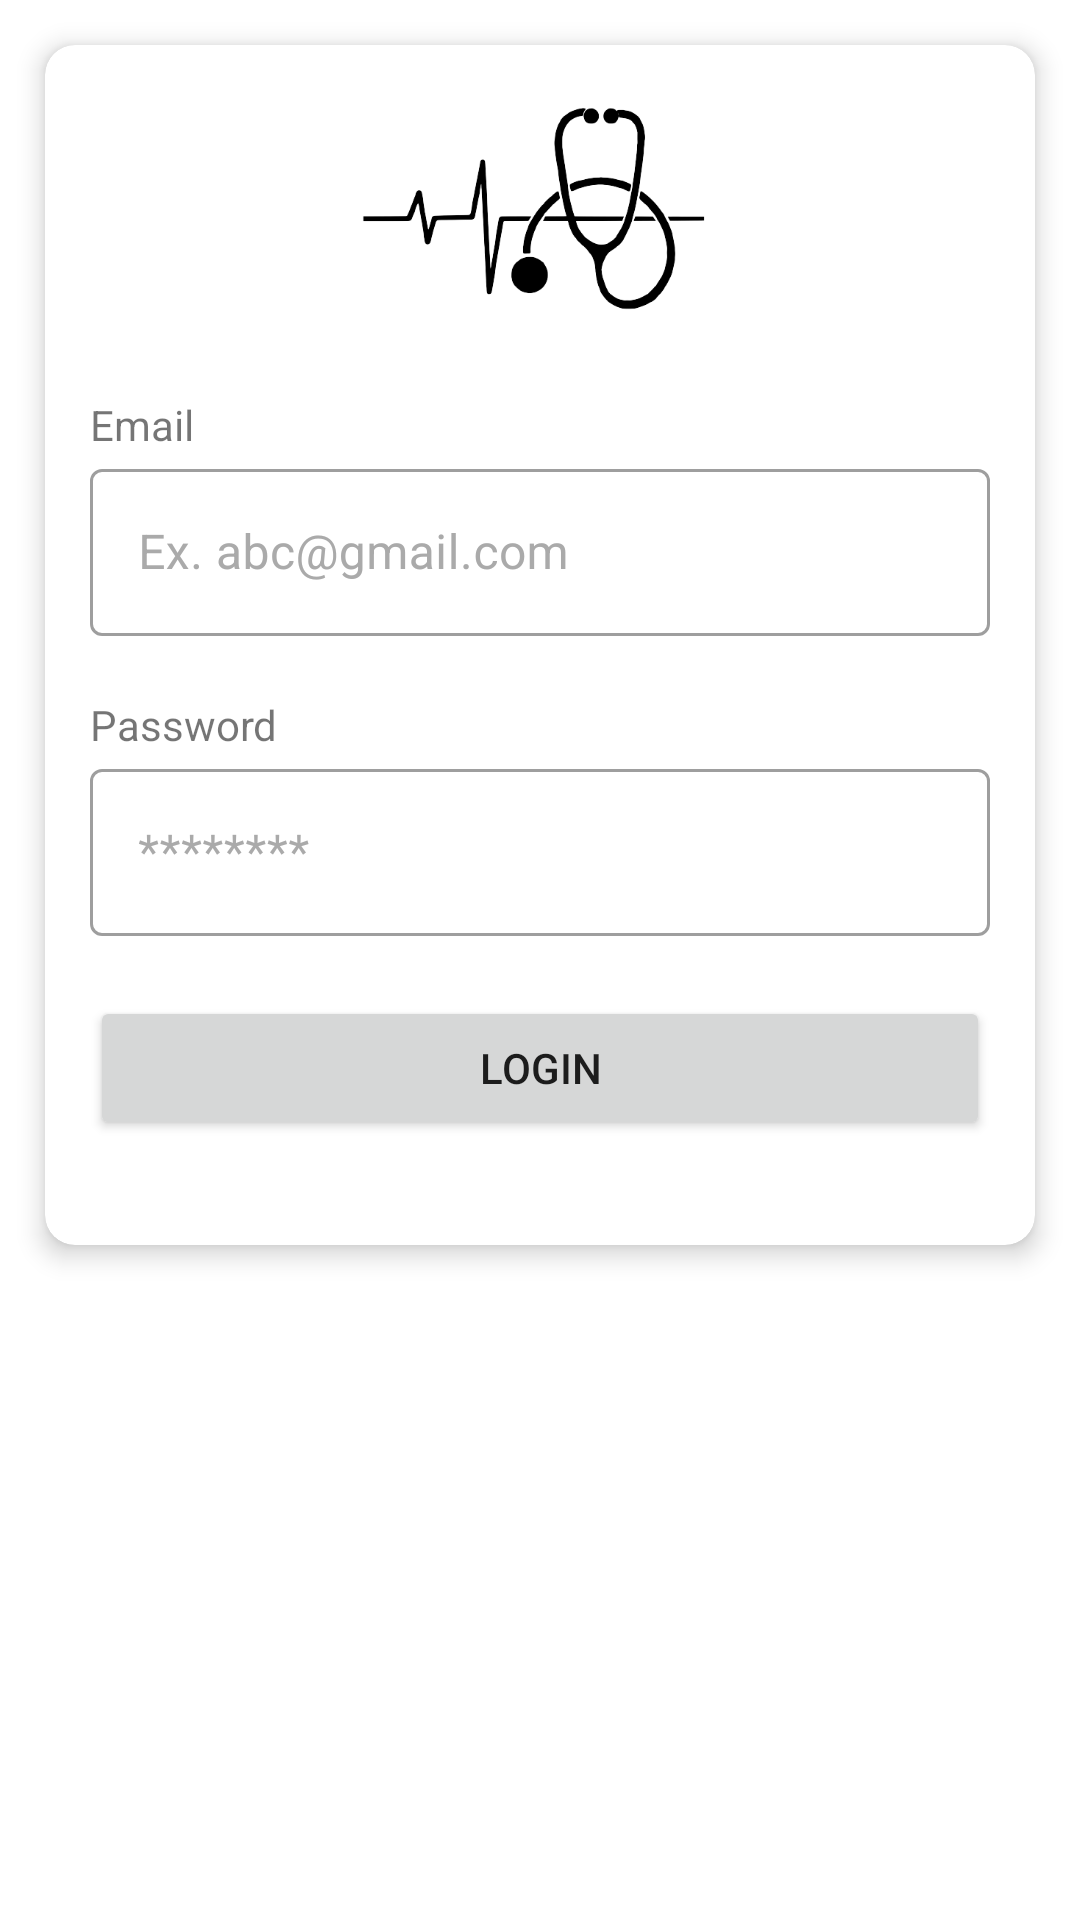

Icon bounding boxes for this 1080×1920 phone screenshot, format bbox(x1, y1, x2, y2):
welcomeheader: bbox(363, 108, 704, 309)
